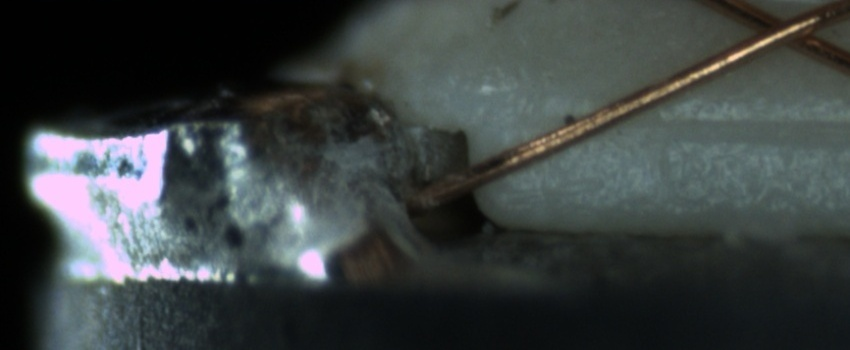CL: (731, 0, 842, 60)
DL: (549, 87, 849, 154)
